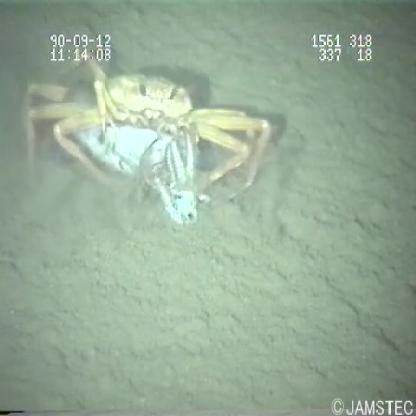Bio: (18, 50, 275, 230)
